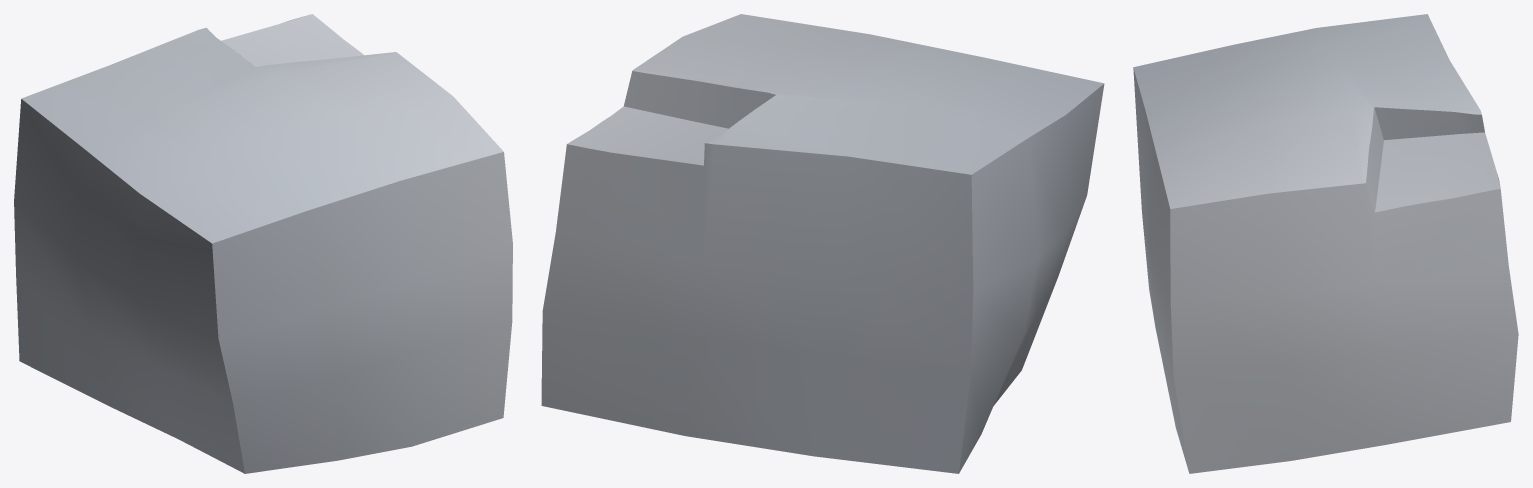
Rendered from SM_Rock_Small_1.fbx.
3 views of the same model, side by side, from view 1: azimuth 30°, elevation 25°; view 2: azimuth 150°, elevation 25°; view 3: azimuth 270°, elevation 25° (orthographic). The views are drawn at different scales.
Visible parts, largest first — view 1: SM_Rock_Small_1; view 2: SM_Rock_Small_1; view 3: SM_Rock_Small_1.
Part boxes in pixels (x1,y1,x2,y2): SM_Rock_Small_1: (14,14,512,473); SM_Rock_Small_1: (541,14,1104,473); SM_Rock_Small_1: (1133,14,1518,473).
Size of the model in its own units: 49.95 by 41.32 by 48.34.
